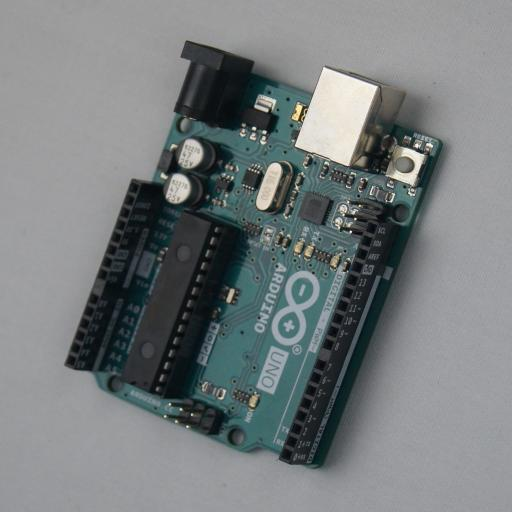Arduino Uno -Green-: (65, 41, 447, 470)
